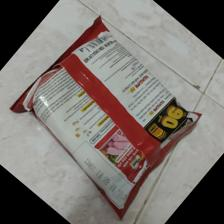Kokomi: (9, 16, 200, 219)
